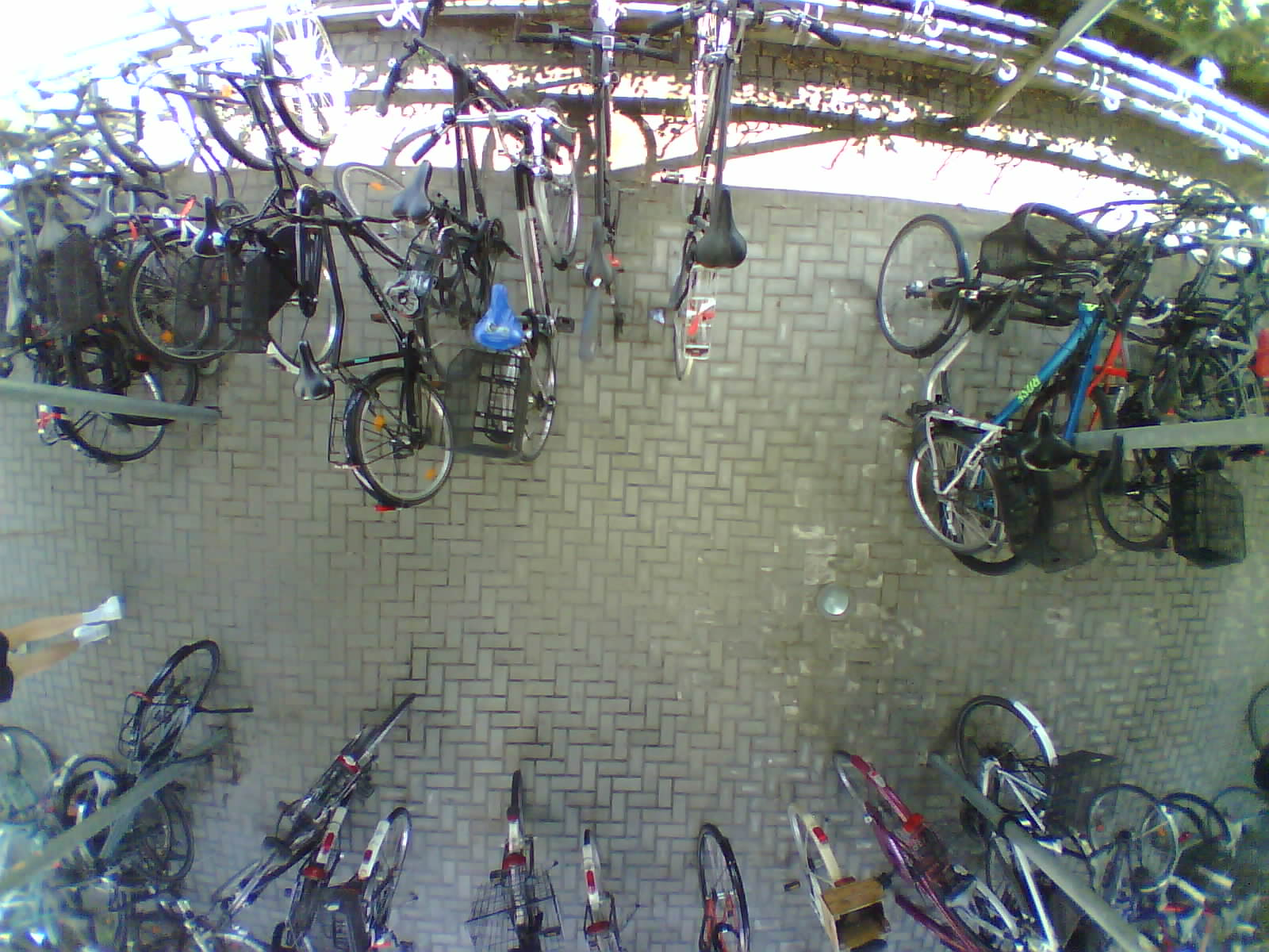bicylce: (849, 197, 1032, 552), (647, 0, 783, 380), (5, 146, 166, 455), (51, 79, 199, 414), (133, 56, 290, 362), (211, 694, 418, 910), (342, 152, 456, 512), (237, 3, 349, 365), (948, 271, 1079, 566), (405, 44, 517, 374), (78, 639, 221, 884), (1010, 212, 1132, 490), (479, 91, 569, 467), (828, 745, 990, 952), (947, 680, 1068, 952), (1103, 229, 1204, 545), (1151, 195, 1265, 456), (562, 0, 626, 371)
saddle: (691, 185, 750, 278), (472, 284, 534, 350), (1022, 410, 1082, 474), (389, 156, 440, 225), (580, 211, 623, 289), (192, 195, 236, 263), (295, 337, 339, 402), (1090, 375, 1136, 436), (81, 181, 125, 243), (30, 195, 74, 254), (1158, 346, 1196, 412), (5, 271, 36, 332), (948, 873, 979, 923), (1085, 842, 1116, 892), (255, 837, 292, 878), (1177, 902, 1207, 945), (88, 768, 118, 809)
